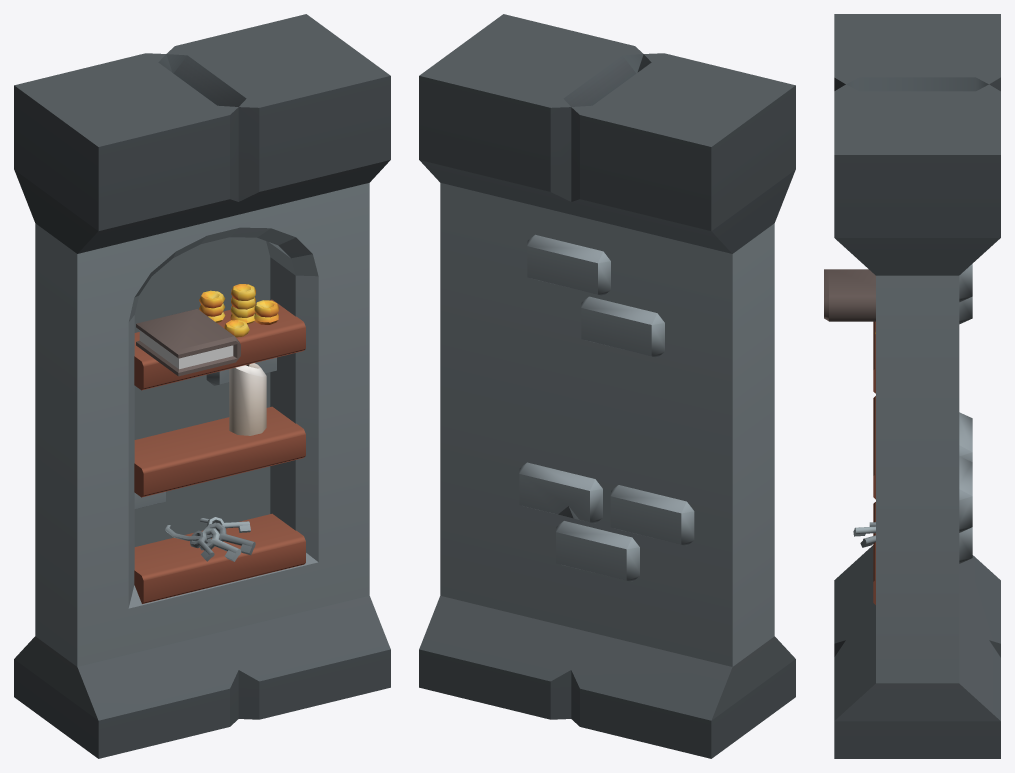
Rendered from wall_alcove_half_B.glb.
3 views of the same model, side by side, from view 1: azimuth 30°, elevation 25°; view 2: azimuth 150°, elevation 25°; view 3: azimuth 270°, elevation 25° (orthographic).
Parts seen in each view (by area): view 1: Item; view 2: Item; view 3: Item.
Part boxes in pixels (x1,y1,x2,y2): Item: [14, 14, 390, 758]; Item: [419, 14, 795, 758]; Item: [824, 14, 1000, 758].
Size of the model in its own units: 2 by 4 by 1.06.
2 materials, 2 textured.
